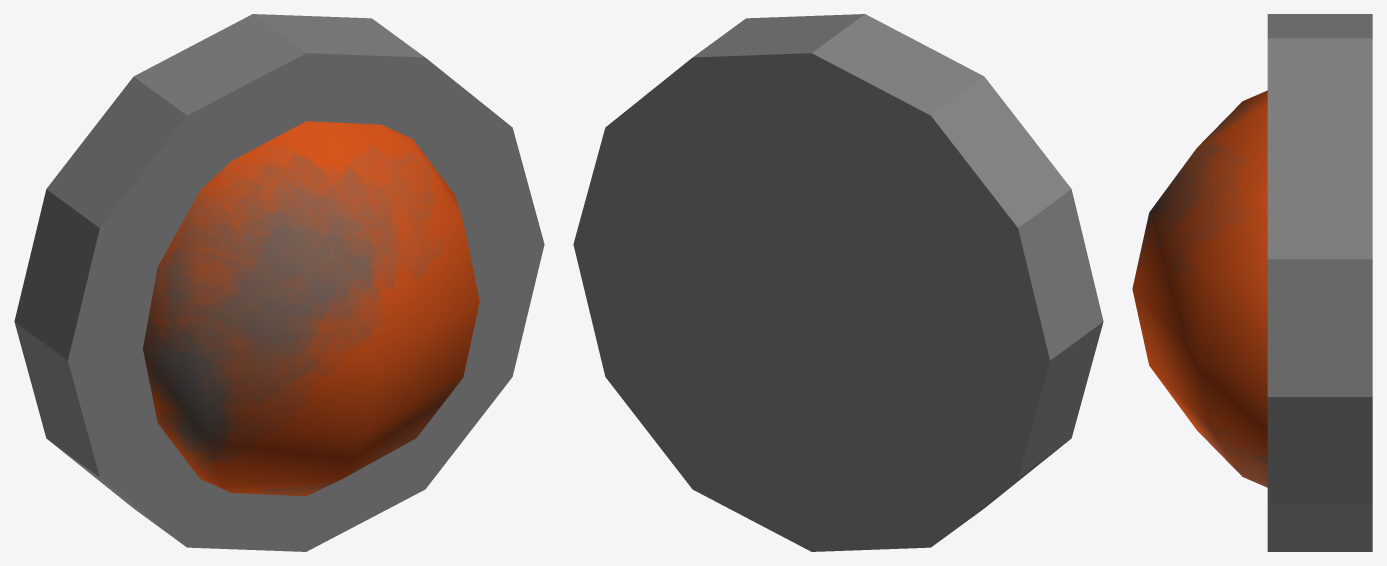
File: Button_Animation.fbx
3 views of the same model, side by side, from view 1: azimuth 30°, elevation 25°; view 2: azimuth 150°, elevation 25°; view 3: azimuth 270°, elevation 25° (orthographic).
Parts seen in each view (by area): view 1: Cylinder, Low Poly; view 2: Cylinder; view 3: Cylinder, Low Poly.
Boxes of the visible parts, <box> form: Cylinder: <box>14,14,544,551</box>; Low Poly: <box>143,121,479,496</box>; Cylinder: <box>573,14,1103,551</box>; Cylinder: <box>1267,14,1372,551</box>; Low Poly: <box>1132,90,1267,487</box>.
Size of the model in its own units: 43.13 by 43.13 by 19.19.
2 materials, 1 textured.
